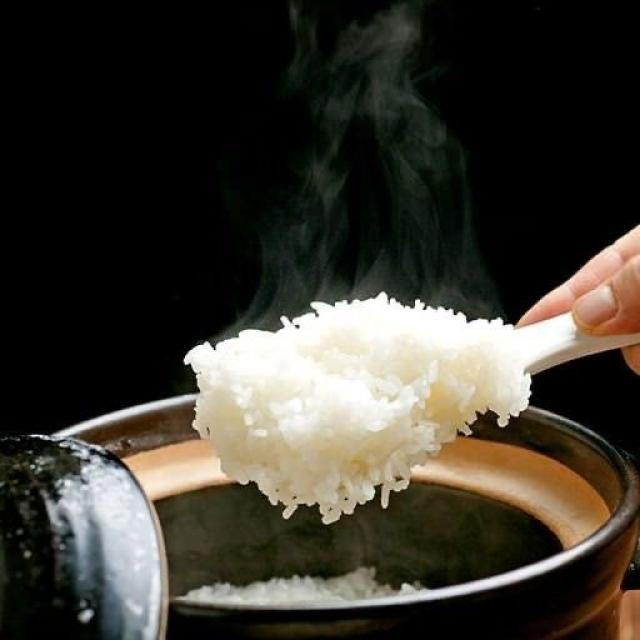rice: (185, 294, 529, 523), (182, 568, 423, 606)
